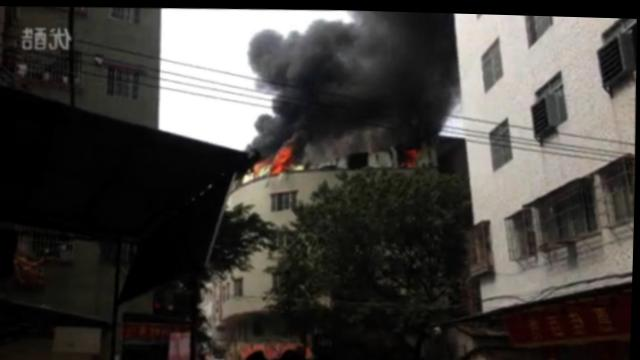fire: (275, 142, 293, 170)
